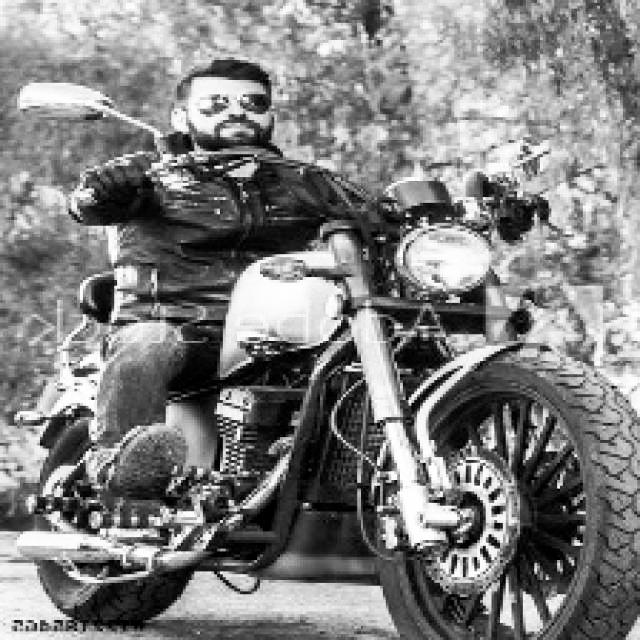Bike: (50, 210, 634, 635)
